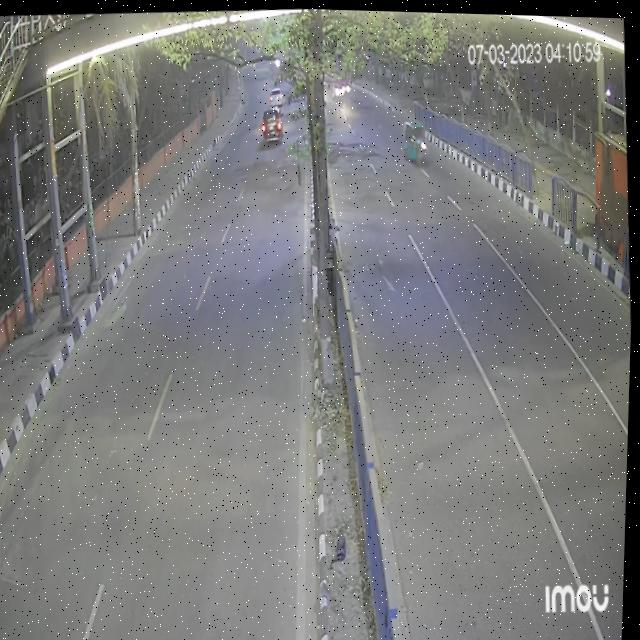cng: (400, 112, 430, 167)
